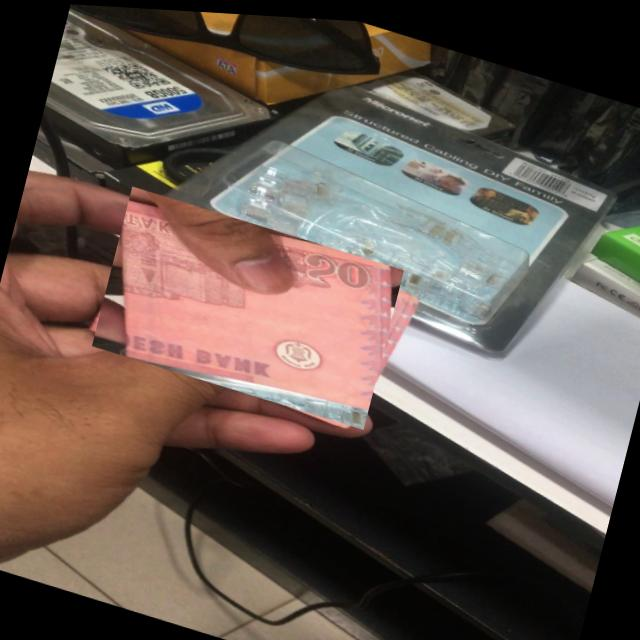Taka: (92, 182, 404, 427)
